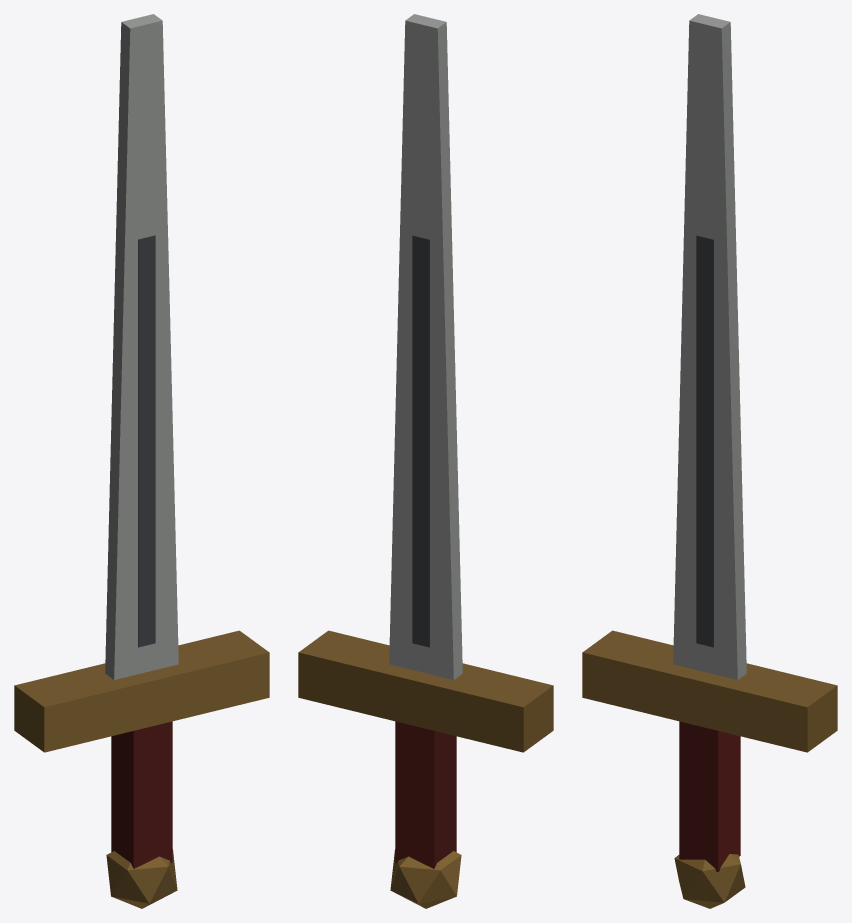
The model's file is militia_sword.glb.
3 renders of one model, left to right at view 1: azimuth 30°, elevation 25°; view 2: azimuth 150°, elevation 25°; view 3: azimuth 330°, elevation 25°, orthographic.
Visible parts, largest first — view 1: MilitiaSword; view 2: MilitiaSword; view 3: MilitiaSword.
Part boxes in pixels (x1,y1,x2,y2): MilitiaSword: [14, 14, 269, 908]; MilitiaSword: [298, 14, 553, 908]; MilitiaSword: [582, 14, 837, 908].
Bounding box in the file's own units: 0.26 × 0.98 × 0.0681.
